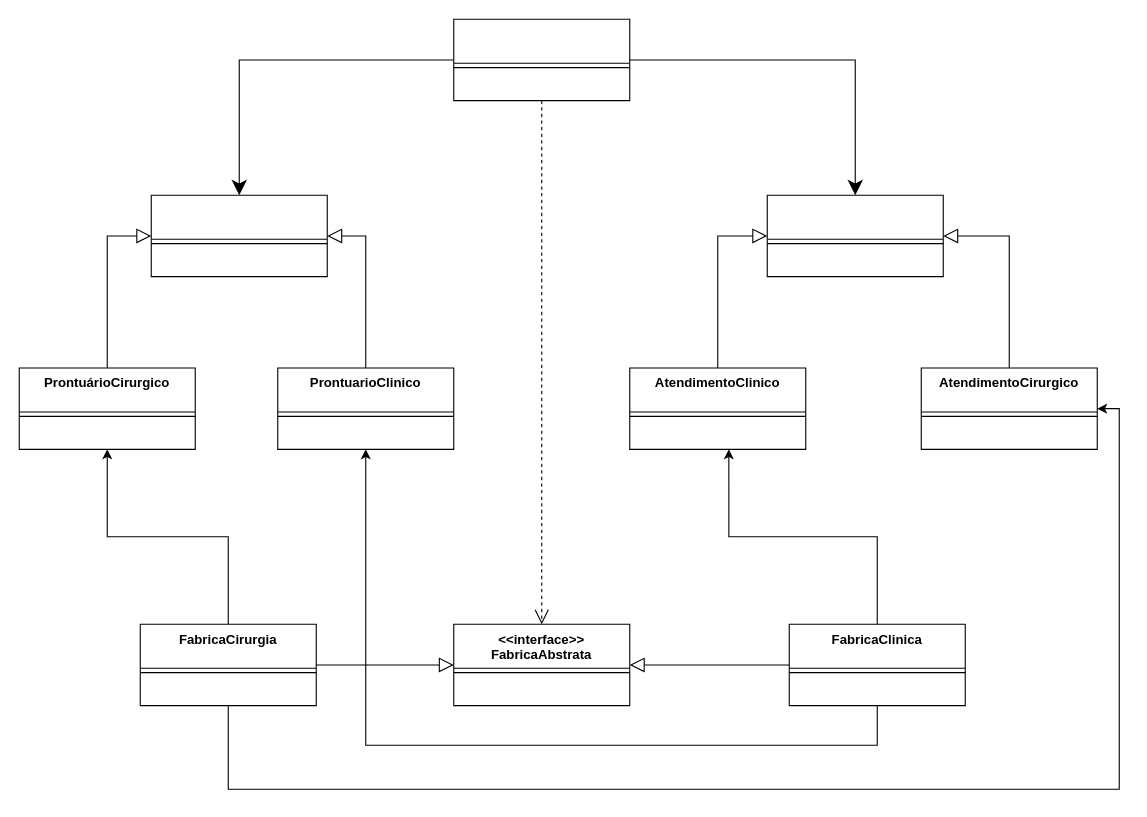
Some shapes in this 1147 by 817 pixel diagram are drawn without their labels. The shapes that lost their labels are listed below. From the top down, each one's box as (x1, y1, x2, y2) in pixels, then its label:
(453, 18, 630, 101): Paciente
(150, 194, 327, 277): <<interface>> Prontuário
(766, 194, 943, 277): <<interface>> Atendimento
